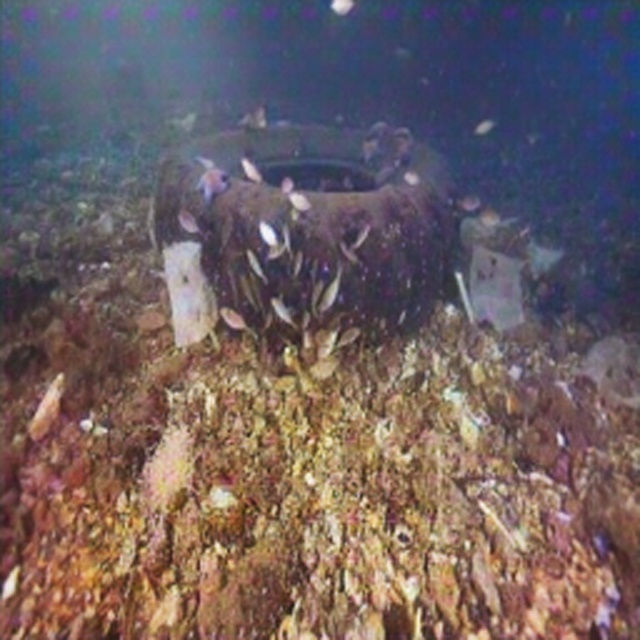mine: (153, 120, 459, 350)
